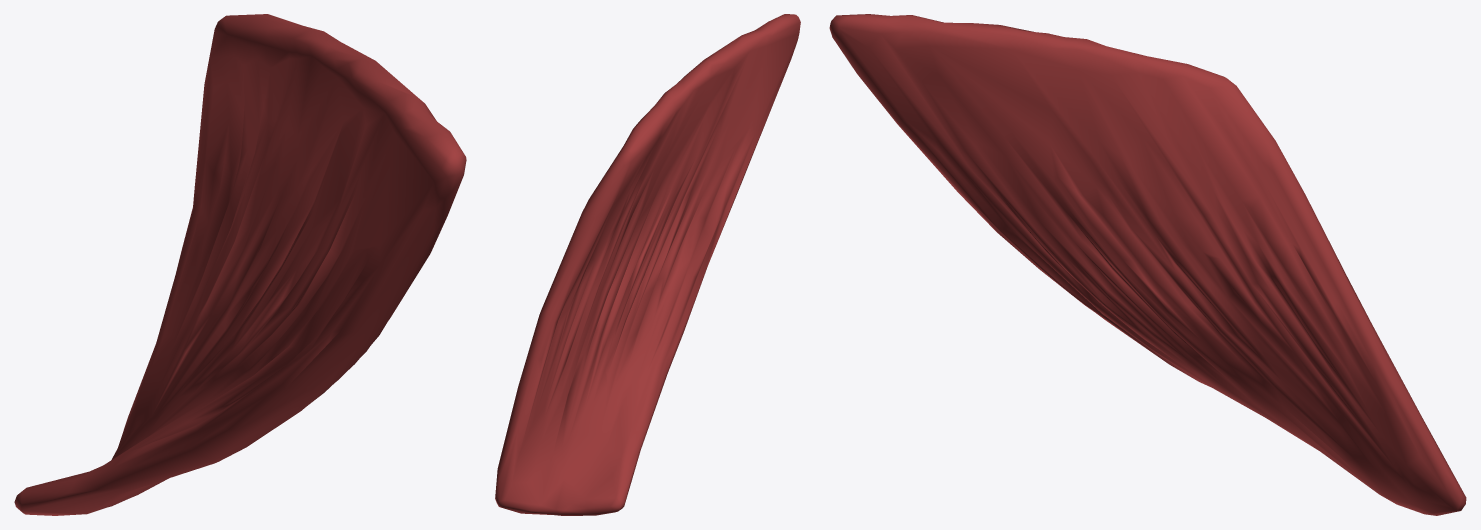
File: hyoglossus-muscle-l.glb
3 views of the same model, side by side, from view 1: azimuth 30°, elevation 25°; view 2: azimuth 150°, elevation 25°; view 3: azimuth 270°, elevation 25° (orthographic). The views are drawn at different scales.
Visible parts, largest first — view 1: Hyoglossus muscle.l; view 2: Hyoglossus muscle.l; view 3: Hyoglossus muscle.l.
Boxes of the visible parts, x1,y1,x2,y2 form: Hyoglossus muscle.l: (14,14,466,515); Hyoglossus muscle.l: (495,14,800,515); Hyoglossus muscle.l: (829,14,1466,515).
Size of the model in its own units: 0.00787 by 0.0253 by 0.0307.
